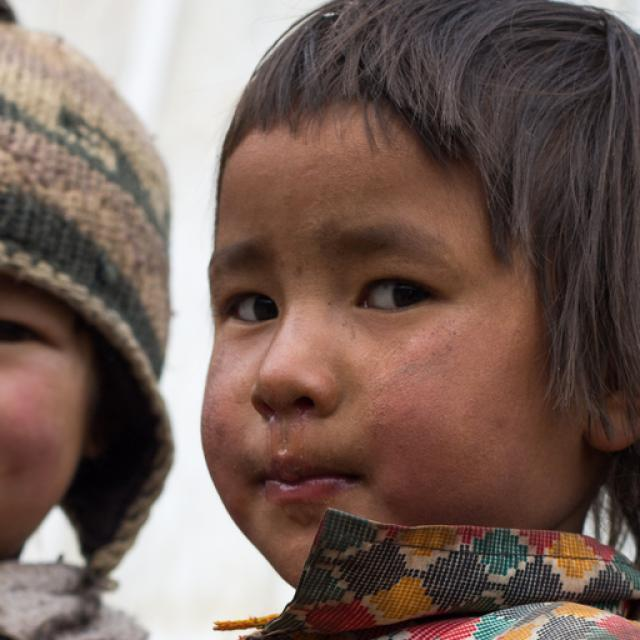happy: (198, 103, 582, 597)
